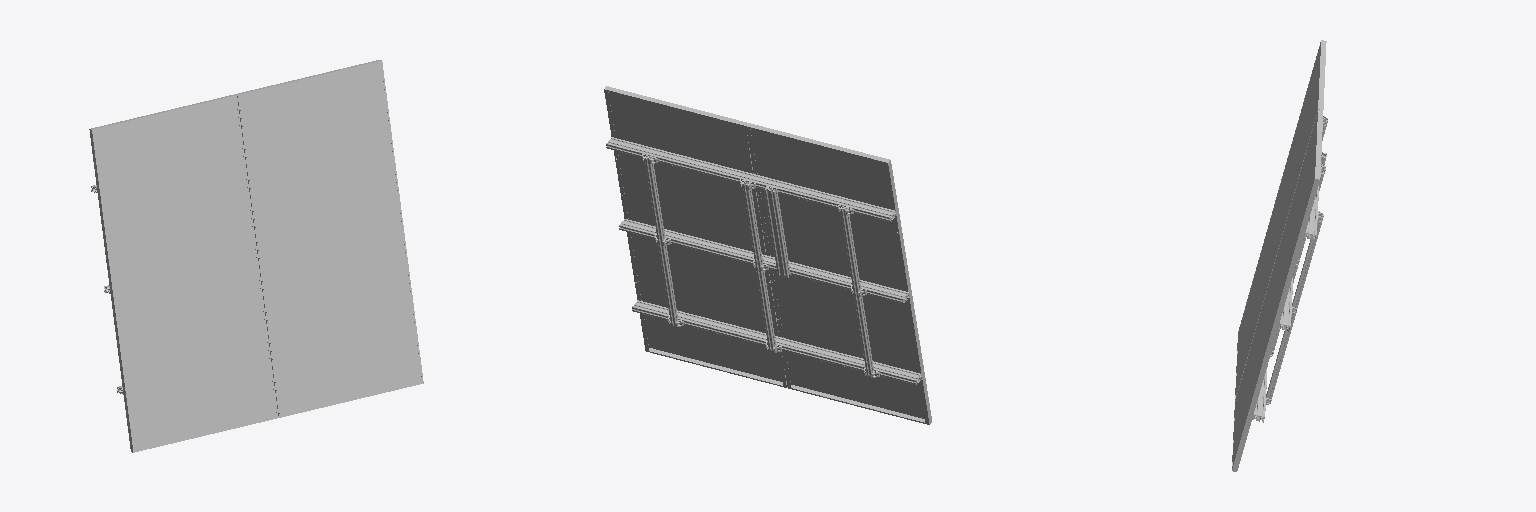
Rendered from panel_azimuth.obj.
3 views of the same model, side by side, from view 1: azimuth 30°, elevation 25°; view 2: azimuth 150°, elevation 25°; view 3: azimuth 270°, elevation 25° (orthographic).
Visible parts, largest first — view 1: default; view 2: default; view 3: default.
Part boxes in pixels (left/top/right/bottom): default: left=89, top=60, right=423, bottom=452; default: left=604, top=86, right=931, bottom=424; default: left=1232, top=40, right=1327, bottom=471.
Size of the model in its own units: 2086 by 2047 by 606.